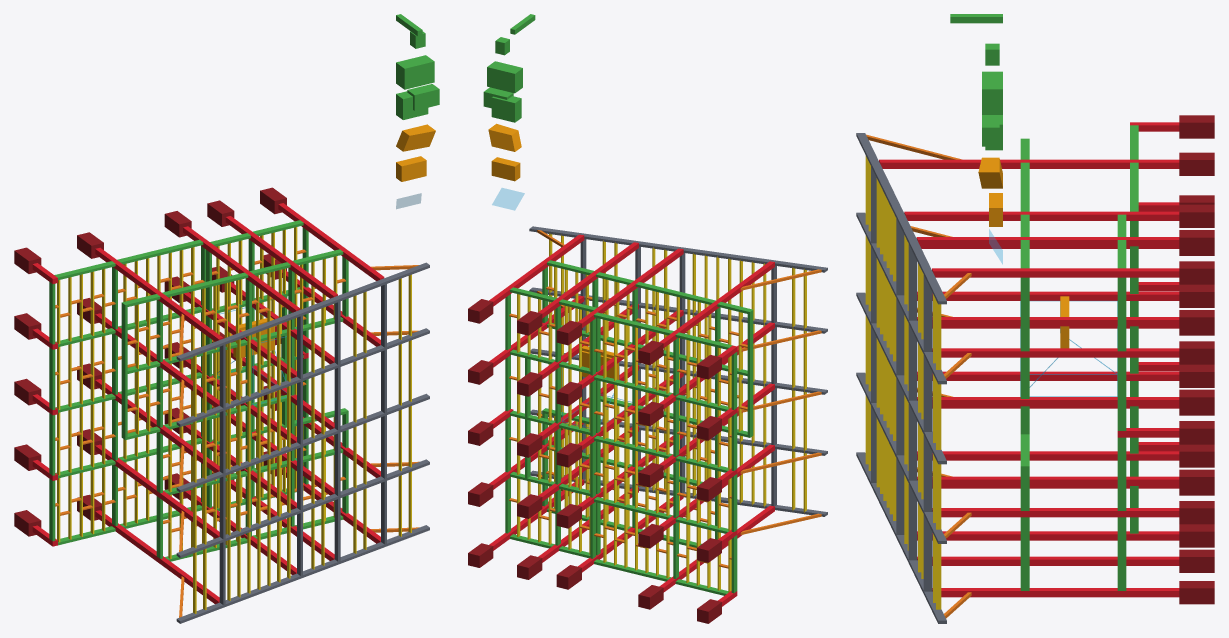
Rendered from tinker.obj.
The picture shows the model from 3 angles, left to right: view 1: azimuth 30°, elevation 25°; view 2: azimuth 150°, elevation 25°; view 3: azimuth 270°, elevation 25°; orthographic projection. The views are drawn at different scales.
Parts seen in each view (by area): view 1: obj_1, obj_420, obj_2, obj_20, obj_15, obj_3, obj_421, obj_4, obj_11, obj_6, obj_419, obj_7 (+10 smaller); view 2: obj_1, obj_420, obj_2, obj_421, obj_3, obj_4, obj_419, obj_20, obj_15, obj_7, obj_21, obj_12 (+11 smaller); view 3: obj_1, obj_2, obj_3, obj_4, obj_9, obj_18, obj_23, obj_13, obj_17, obj_22, obj_8, obj_16 (+54 smaller).
Boxes of the visible parts, bbox=[...] form: obj_1: bbox=[95, 247, 222, 341]; obj_420: bbox=[396, 84, 439, 119]; obj_2: bbox=[183, 226, 300, 312]; obj_20: bbox=[95, 510, 219, 603]; obj_15: bbox=[95, 444, 219, 538]; obj_3: bbox=[225, 216, 337, 298]; obj_421: bbox=[396, 55, 434, 89]; obj_4: bbox=[278, 203, 384, 280]; obj_11: bbox=[95, 379, 219, 472]; obj_6: bbox=[95, 313, 219, 407]; obj_419: bbox=[396, 124, 435, 151]; obj_7: bbox=[183, 292, 296, 378]; obj_1: bbox=[659, 261, 774, 347]; obj_420: bbox=[483, 87, 521, 122]; obj_2: bbox=[578, 248, 683, 327]; obj_421: bbox=[487, 61, 522, 93]; obj_3: bbox=[538, 242, 638, 318]; obj_4: bbox=[489, 234, 584, 306]; obj_419: bbox=[488, 123, 521, 151]; obj_20: bbox=[659, 505, 774, 592]; obj_15: bbox=[659, 444, 774, 531]; obj_7: bbox=[578, 310, 683, 389]; obj_21: bbox=[578, 496, 683, 572]; obj_12: bbox=[578, 372, 683, 450]; obj_1: bbox=[879, 159, 1179, 168]; obj_2: bbox=[904, 211, 1179, 220]; obj_3: bbox=[916, 237, 1179, 246]; obj_4: bbox=[932, 268, 1179, 277]; obj_9: bbox=[932, 348, 1179, 357]; obj_18: bbox=[932, 508, 1179, 517]; obj_23: bbox=[932, 588, 1179, 597]; obj_13: bbox=[917, 397, 1179, 406]; obj_17: bbox=[917, 476, 1179, 485]; obj_22: bbox=[917, 556, 1179, 565]; obj_8: bbox=[917, 317, 1179, 326]; obj_16: bbox=[917, 451, 1179, 460].
Bounding box in the file's own units: 132 × 192 × 102.
